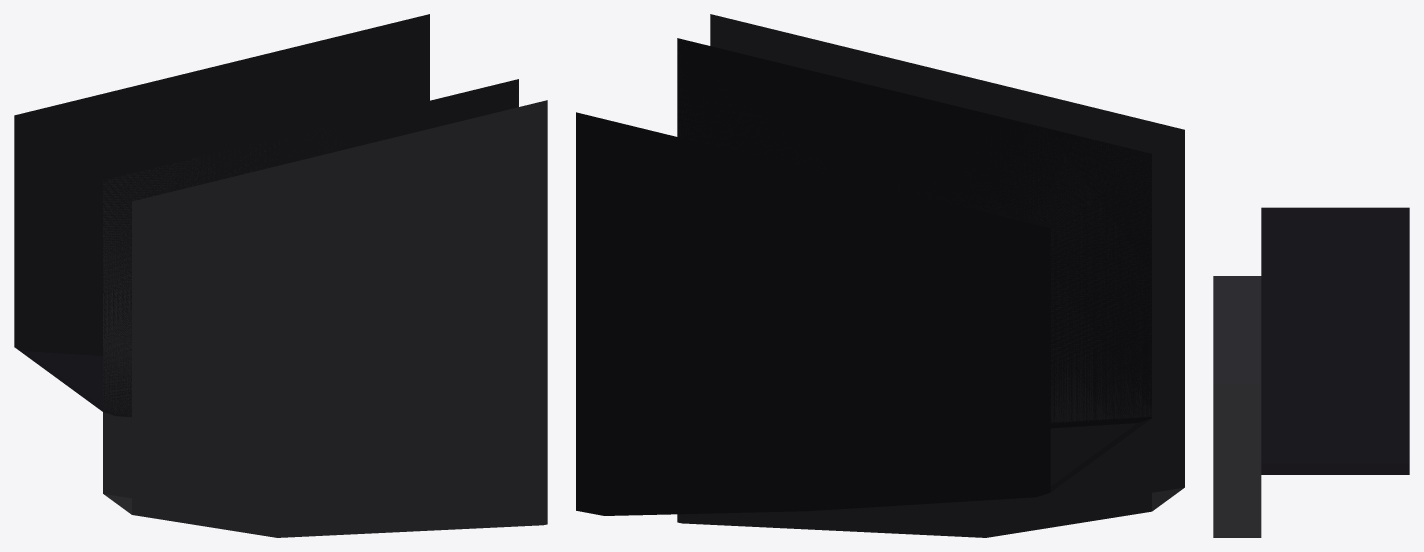
Rendered from section-10.obj.
The picture shows the model from 3 angles, left to right: view 1: azimuth 30°, elevation 25°; view 2: azimuth 150°, elevation 25°; view 3: azimuth 270°, elevation 25°; orthographic projection. The views are drawn at different scales.
Bounding box in the file's own units: 1 × 0.9753 × 0.49.
Materials: 1 (1 with a texture image).
